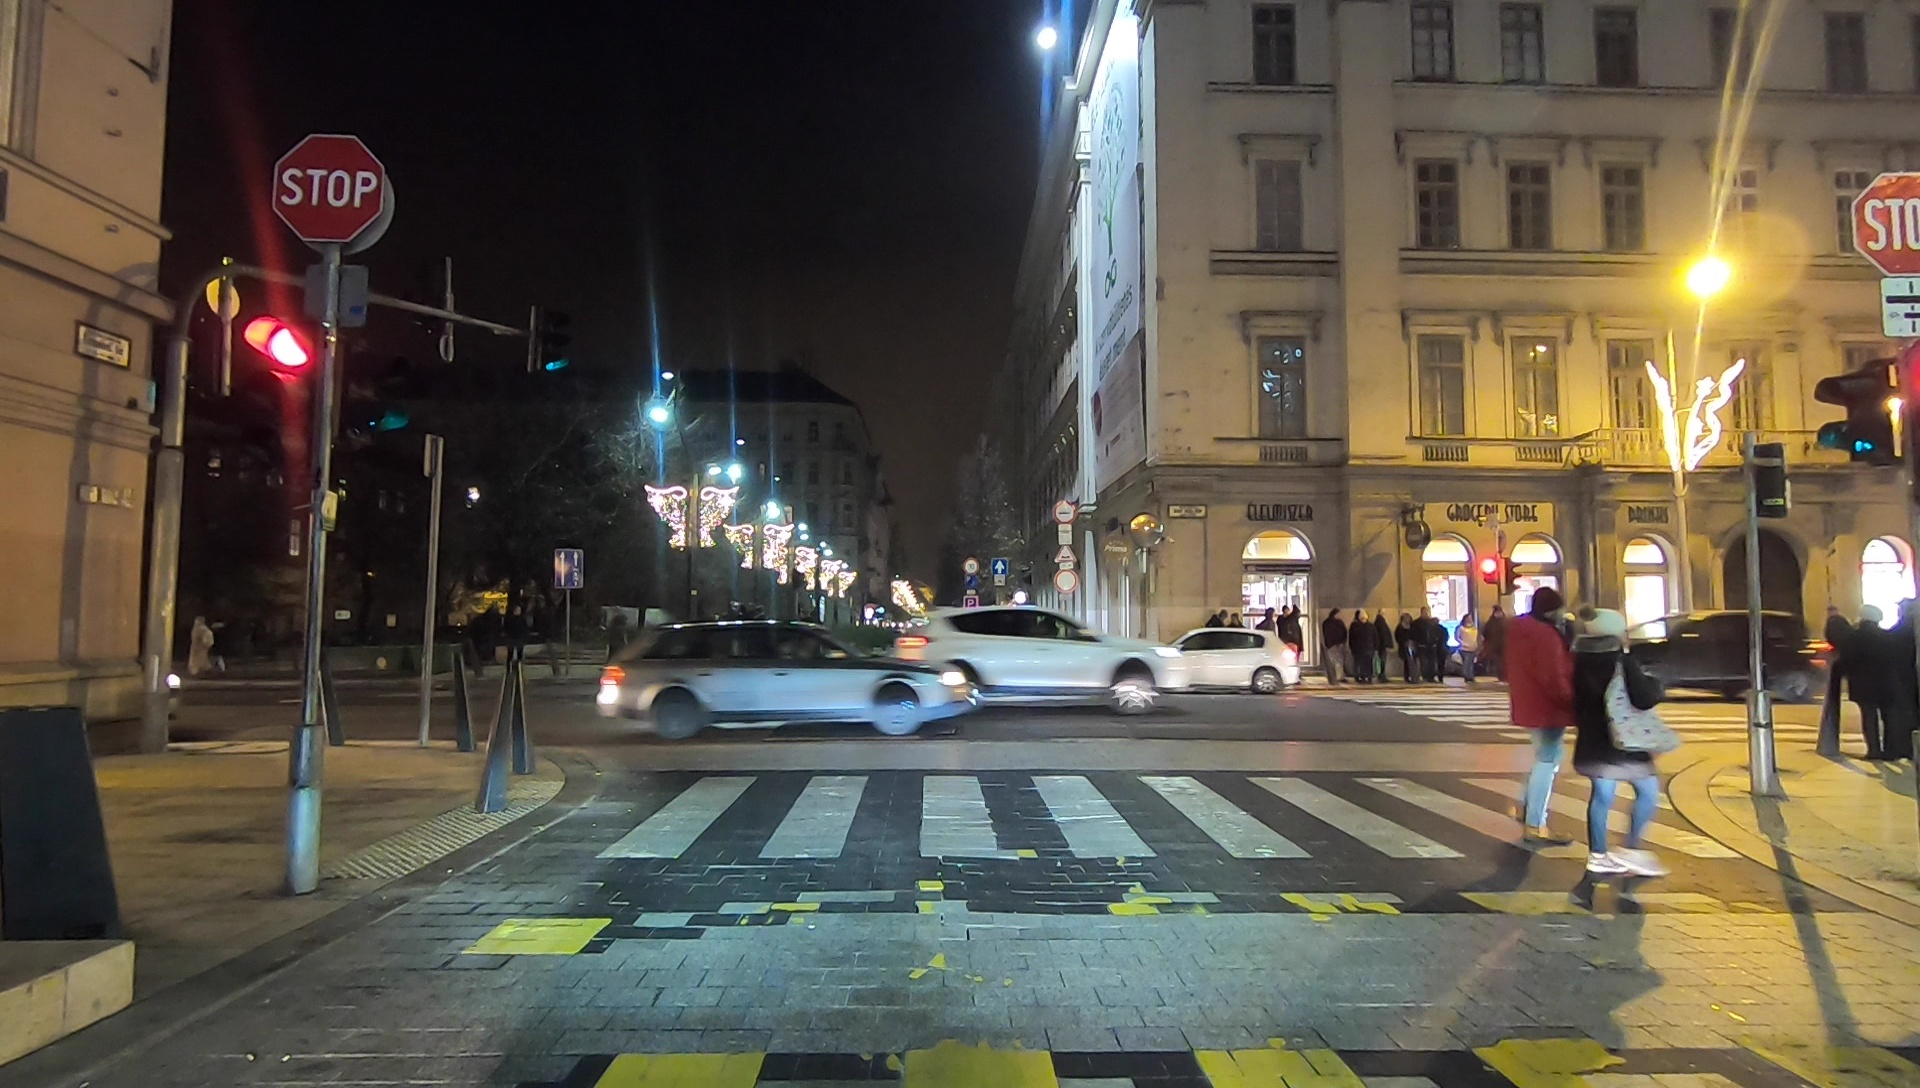person: (1571, 610, 1664, 884), (1506, 599, 1575, 839), (1845, 611, 1888, 767), (1888, 595, 1920, 755), (1323, 611, 1345, 680), (1354, 610, 1373, 678), (1419, 606, 1436, 678), (1460, 619, 1478, 676), (1399, 615, 1415, 682), (1373, 611, 1389, 676)
